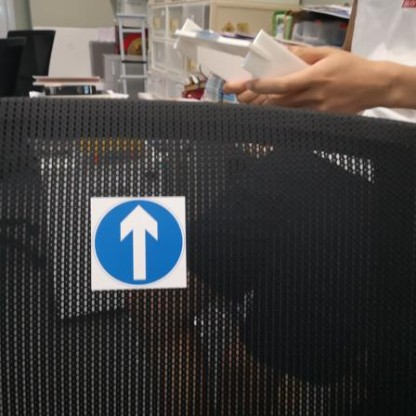forward: (83, 192, 195, 285)
